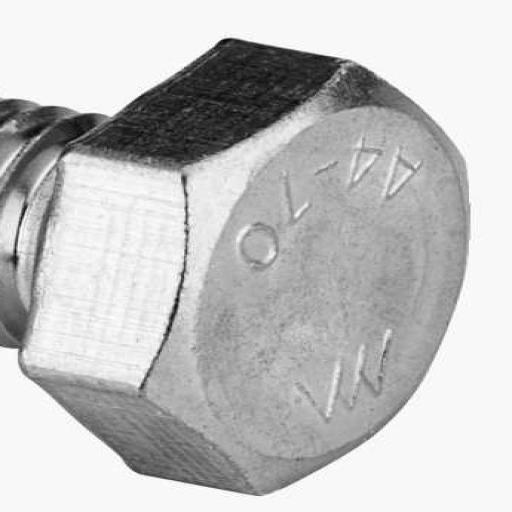Hex-Allen: (1, 1, 511, 511)
